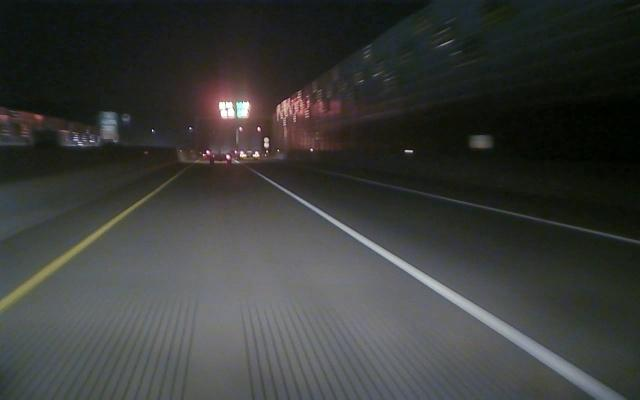lane: (265, 176, 623, 396), (325, 172, 640, 244), (3, 182, 167, 310)
